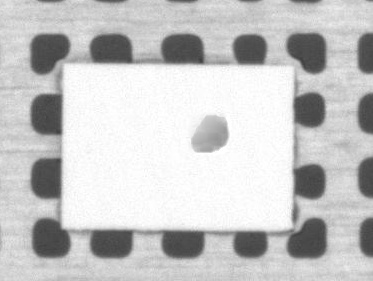DIE_INK: (246, 80, 312, 121)
